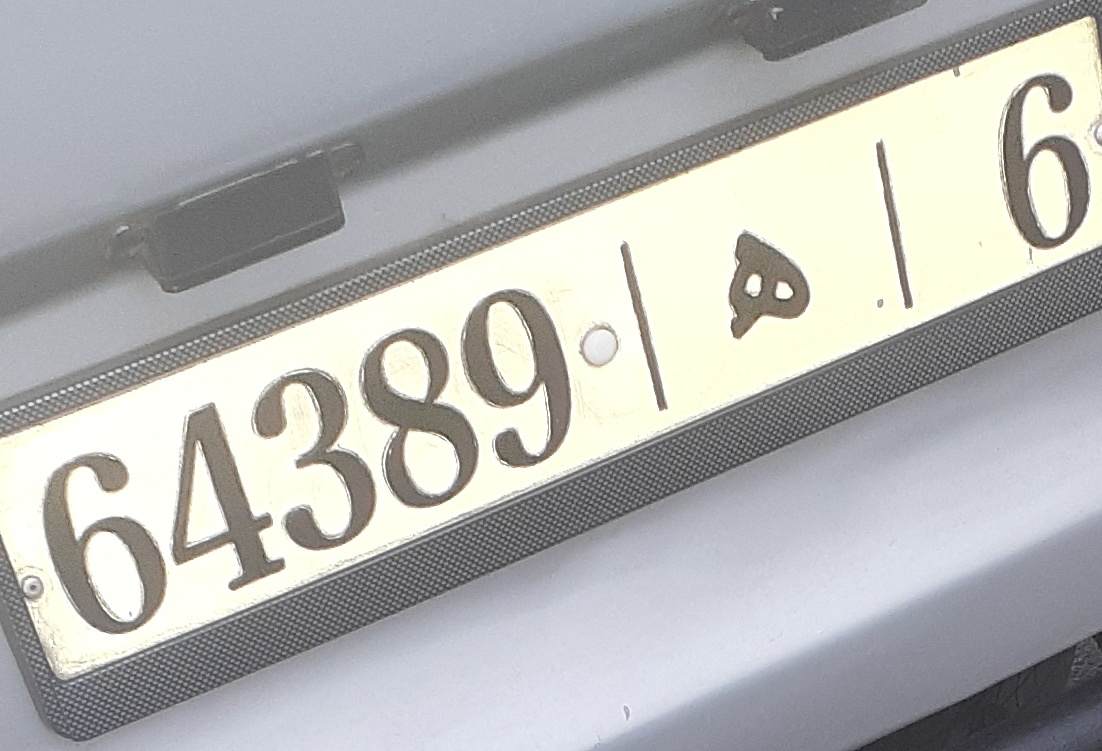3: (250, 364, 382, 548)
4: (165, 398, 285, 591)
6: (989, 67, 1097, 251)
8: (350, 325, 481, 509)
9: (38, 448, 170, 635), (460, 286, 578, 468)
h: (711, 223, 815, 346)
